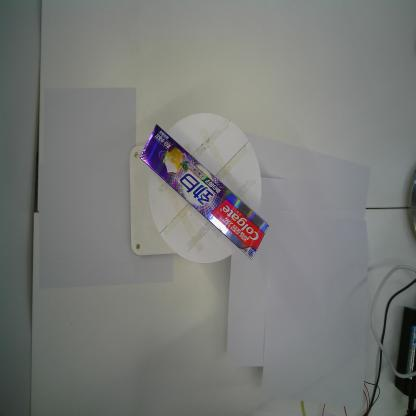Personal Hygiene: (137, 120, 271, 263)
